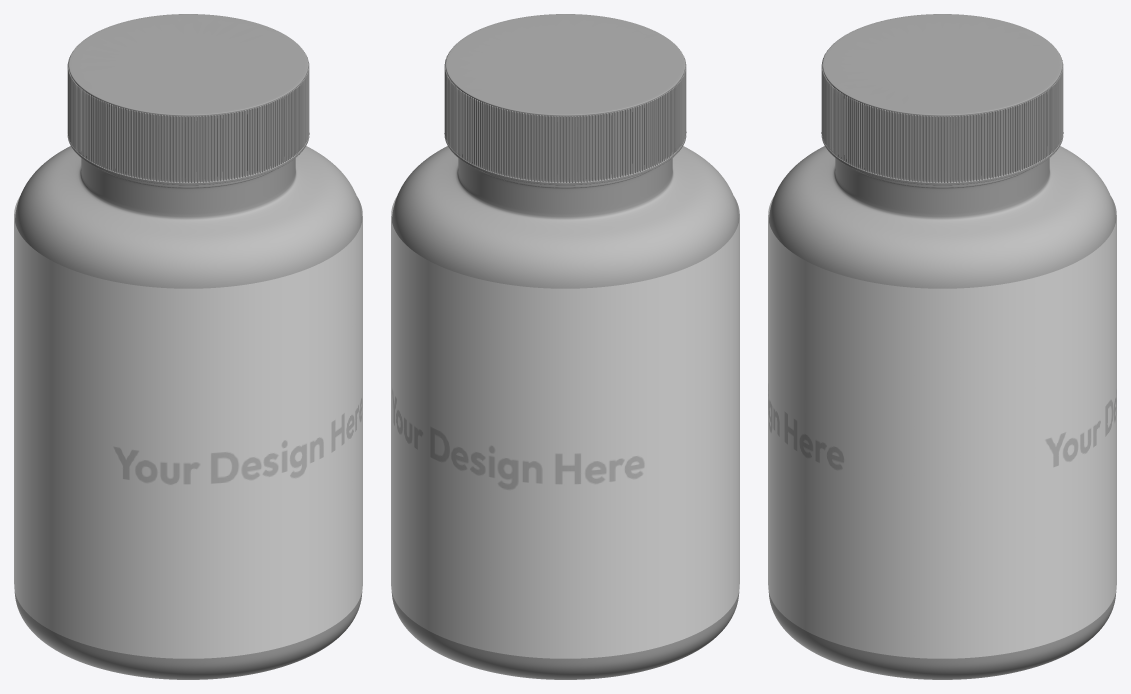
File: Pill Bottle 3.glb
3 renders of one model, left to right at view 1: azimuth 30°, elevation 25°; view 2: azimuth 150°, elevation 25°; view 3: azimuth 270°, elevation 25°, orthographic.
Parts seen in each view (by area): view 1: Replacer-Label, Bottle, Cap; view 2: Replacer-Label, Bottle, Cap; view 3: Replacer-Label, Bottle, Cap.
Boxes of the visible parts, x1=… form: Replacer-Label: x1=14, y1=196, x2=362, y2=658; Bottle: x1=14, y1=146, x2=362, y2=679; Cap: x1=67, y1=14, x2=309, y2=185; Replacer-Label: x1=391, y1=196, x2=739, y2=658; Bottle: x1=391, y1=146, x2=739, y2=679; Cap: x1=444, y1=14, x2=686, y2=185; Replacer-Label: x1=768, y1=196, x2=1116, y2=658; Bottle: x1=768, y1=146, x2=1116, y2=679; Cap: x1=821, y1=14, x2=1063, y2=185.
Bounding box in the file's own units: 0.7645 × 1.33 × 0.7645.
3 materials, 1 textured.
